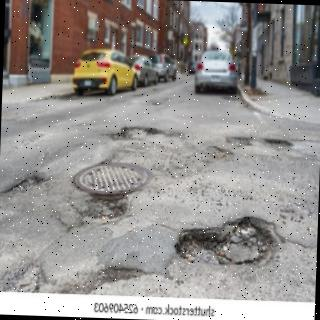pothole: (176, 217, 276, 266), (221, 132, 290, 150), (88, 196, 130, 222), (110, 125, 163, 142)
